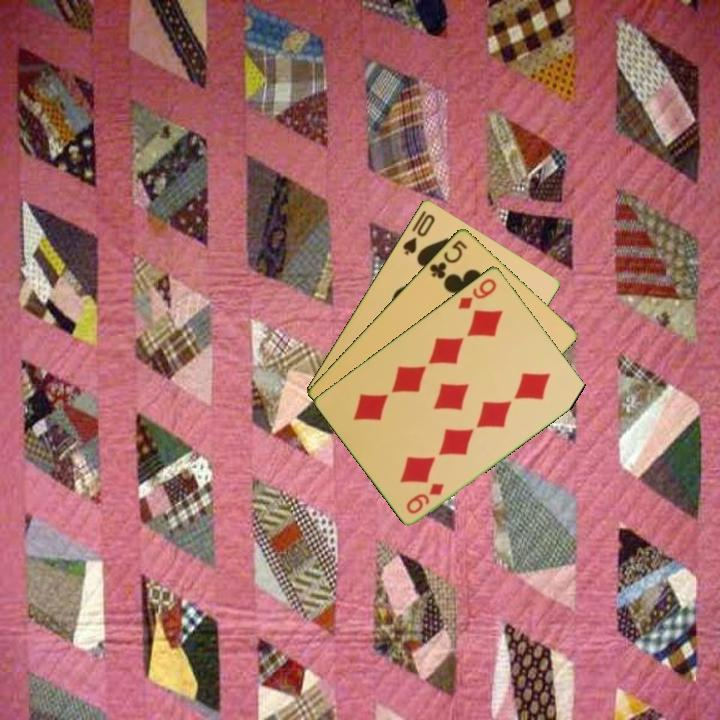10s: (399, 210, 438, 258)
5c: (426, 236, 470, 281)
9d: (454, 274, 500, 312), (402, 479, 447, 517)
